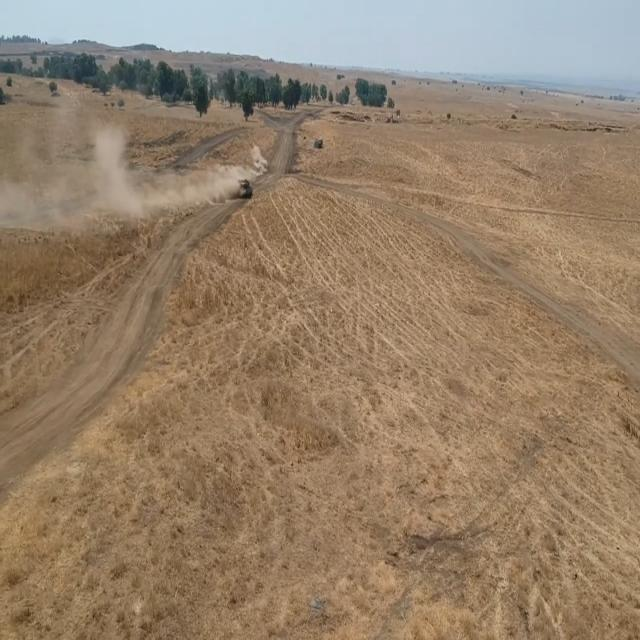tank: (235, 175, 254, 203)
